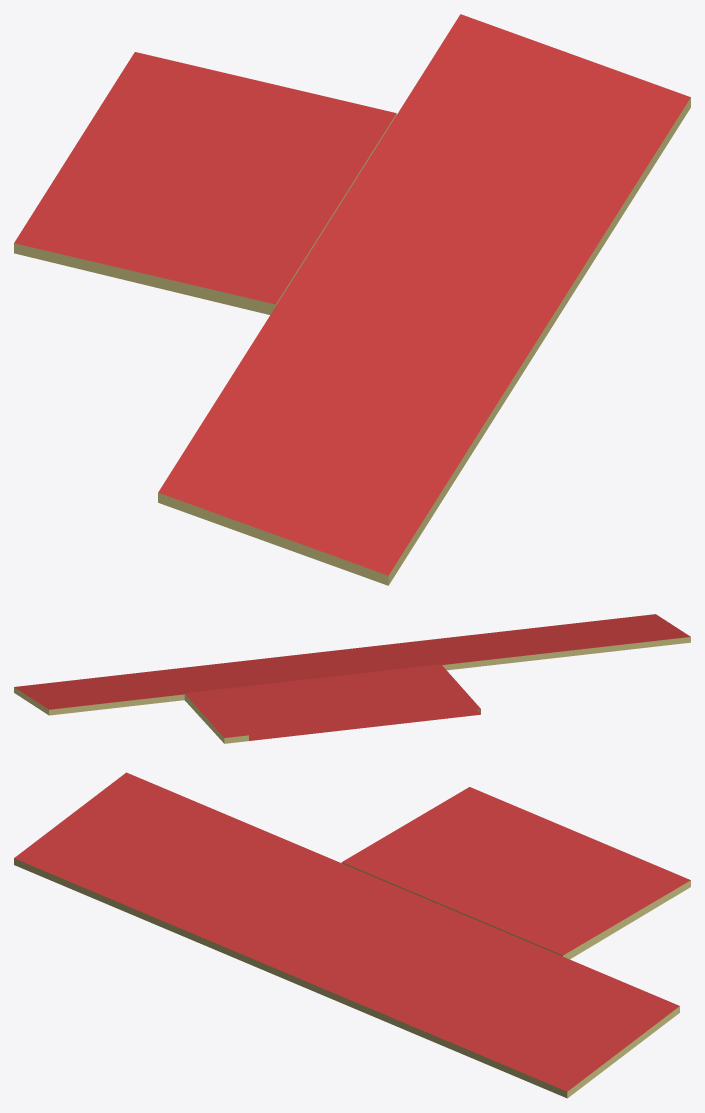
The picture shows the model from 3 angles, top to bottom: view 1: azimuth 30°, elevation 25°; view 2: azimuth 150°, elevation 25°; view 3: azimuth 270°, elevation 25°; orthographic projection. The views are drawn at different scales.
Size of the model in its own units: 8.85 by 9.01 by 0.989.
